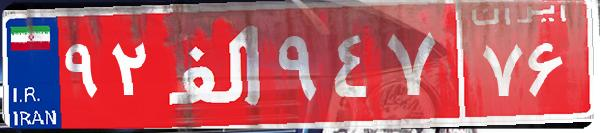2: (110, 28, 158, 105)
4: (330, 28, 385, 110)
6: (525, 38, 570, 115)
7: (385, 28, 445, 110), (475, 38, 525, 113)
9: (273, 28, 330, 110), (57, 26, 110, 107)
الف: (158, 15, 273, 115)
